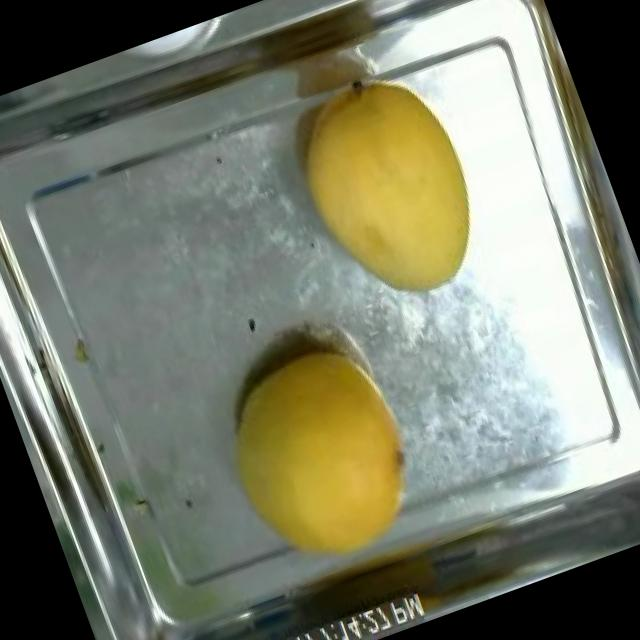fruit: (186, 318, 448, 597), (263, 45, 512, 330)
